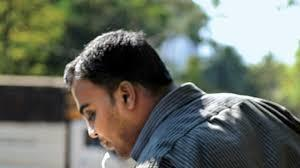spitting: (19, 1, 244, 167)
